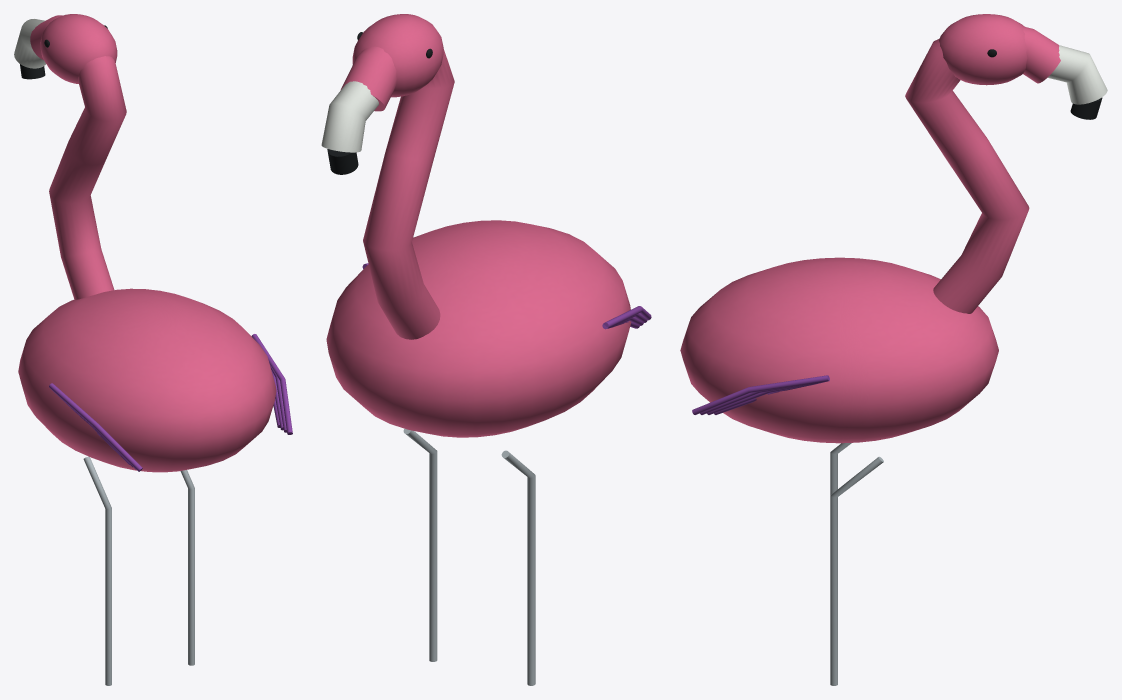
File: PinkFlamingo.fbx
3 views of the same model, side by side, from view 1: azimuth 30°, elevation 25°; view 2: azimuth 150°, elevation 25°; view 3: azimuth 270°, elevation 25° (orthographic). The views are drawn at different scales.
Parts seen in each view (by area): view 1: PinkFlamingo__Body; view 2: PinkFlamingo__Body; view 3: PinkFlamingo__Body.
Part boxes in pixels (x1,y1,x2,y2): PinkFlamingo__Body: [14, 14, 292, 685]; PinkFlamingo__Body: [321, 14, 651, 685]; PinkFlamingo__Body: [680, 14, 1107, 685].
Bounding box in the file's own units: 30.8 × 84 × 50.4.
Materials: 1 (1 with a texture image).
